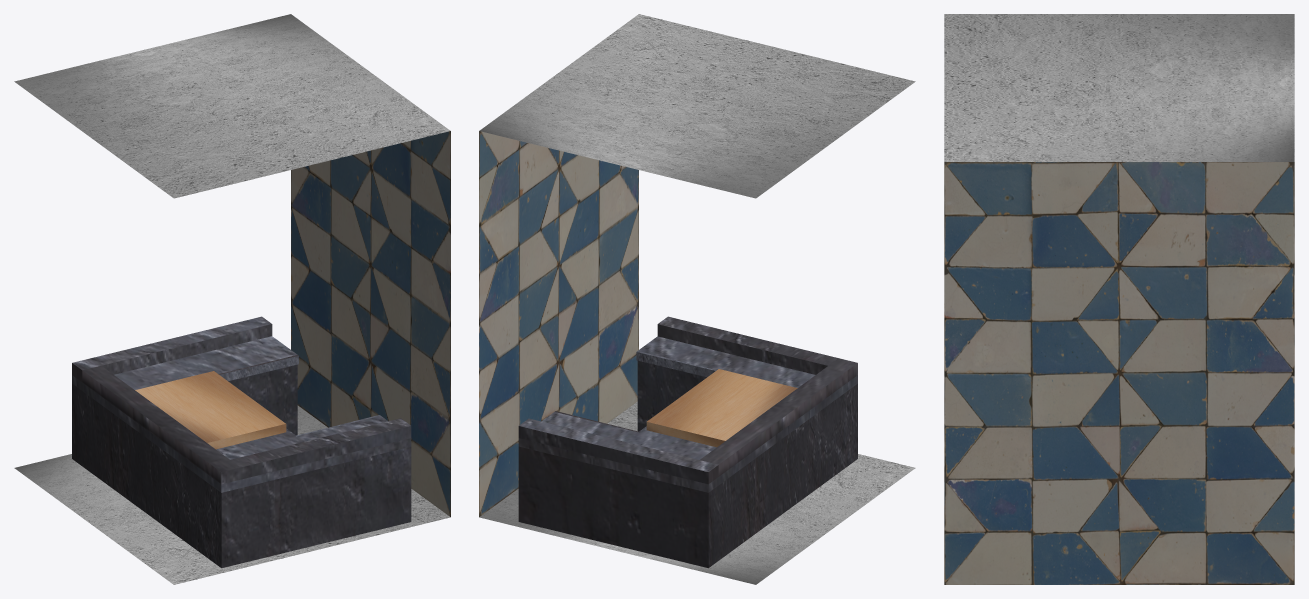
3 views of the same model, side by side, from view 1: azimuth 30°, elevation 25°; view 2: azimuth 150°, elevation 25°; view 3: azimuth 270°, elevation 25° (orthographic). The views are drawn at different scales.
Parts seen in each view (by area): view 1: 작업대, 벽, 천장, 바닥, 도마; view 2: 작업대, 벽, 천장, 바닥, 도마; view 3: 벽, 천장.
Boxes of the visible parts, left/top/right/bottom form: 작업대: left=72, top=316, right=411, bottom=568; 벽: left=291, top=131, right=450, bottom=516; 천장: left=14, top=14, right=450, bottom=198; 바닥: left=14, top=405, right=450, bottom=584; 도마: left=135, top=371, right=286, bottom=449; 작업대: left=518, top=316, right=857, bottom=568; 벽: left=479, top=131, right=638, bottom=516; 천장: left=479, top=14, right=915, bottom=198; 바닥: left=479, top=401, right=915, bottom=584; 도마: left=646, top=369, right=797, bottom=447; 벽: left=944, top=162, right=1294, bottom=584; 천장: left=944, top=14, right=1294, bottom=161.
Bounding box in the file's own units: 118 × 157 × 118.
